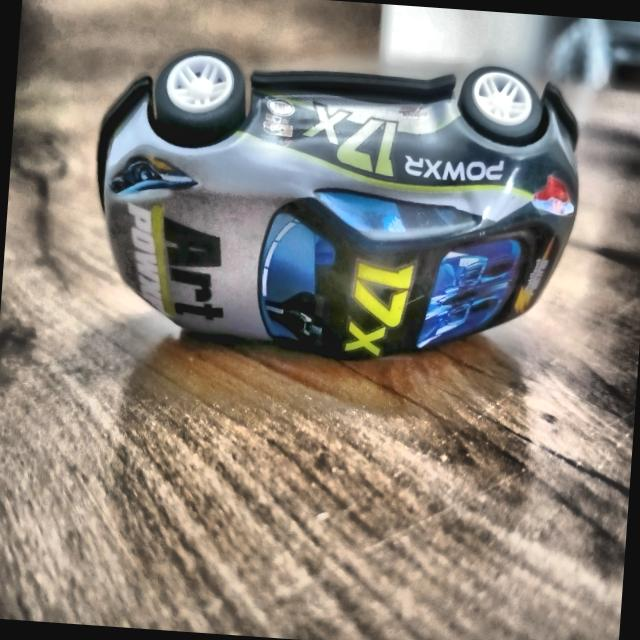Car: (79, 27, 612, 400)
